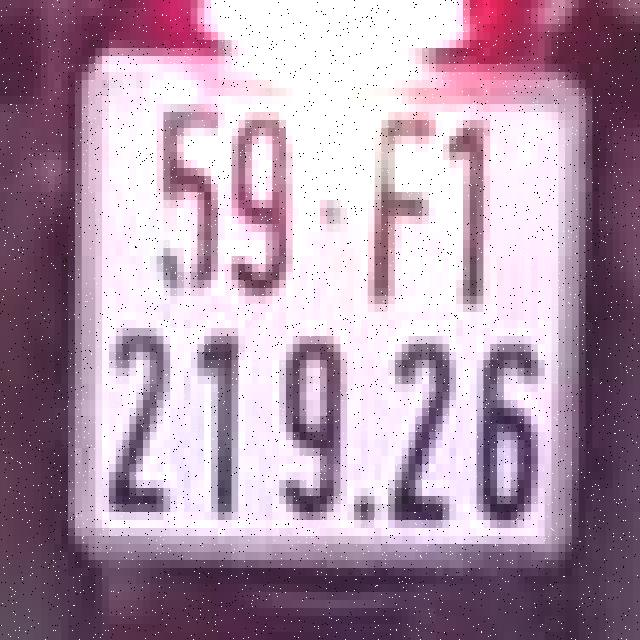1: (442, 108, 504, 324), (191, 312, 252, 528)
2: (381, 328, 463, 528), (99, 320, 180, 520)
5: (150, 92, 231, 300)
6: (477, 328, 558, 536)
9: (221, 104, 310, 304), (262, 320, 344, 528)
F: (368, 96, 436, 312)
